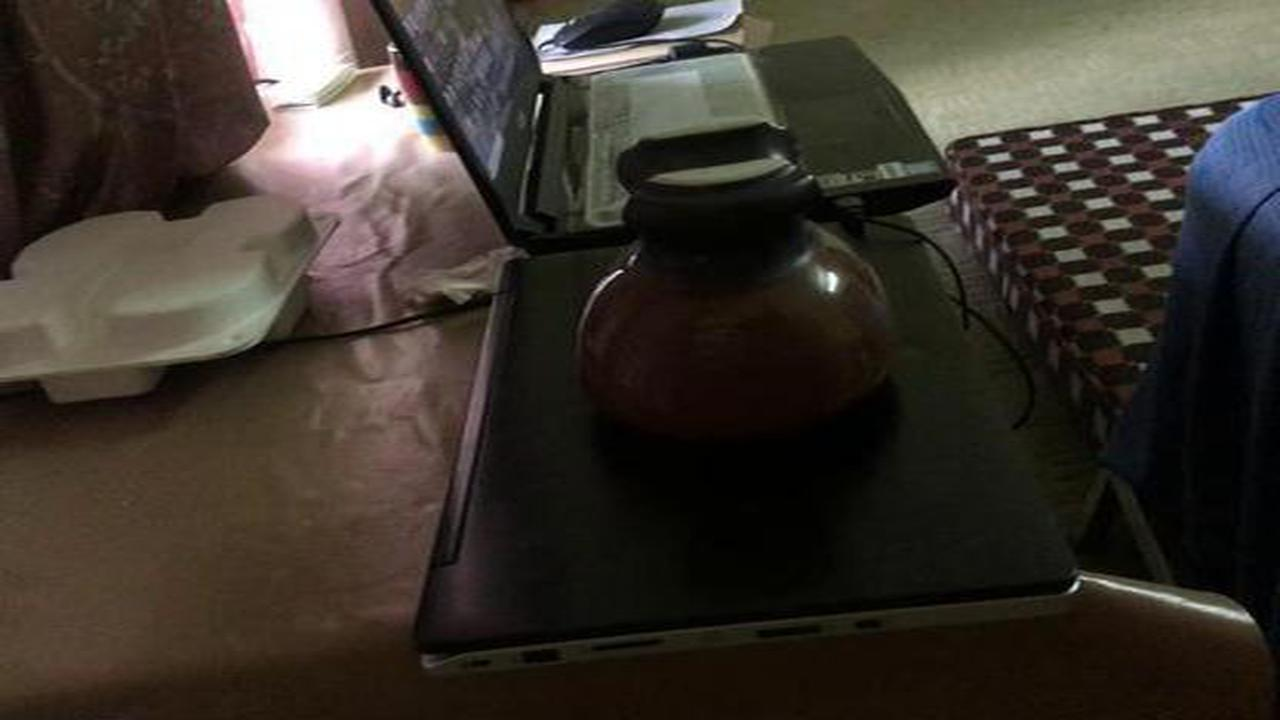insulator_pin: (545, 110, 933, 475)
